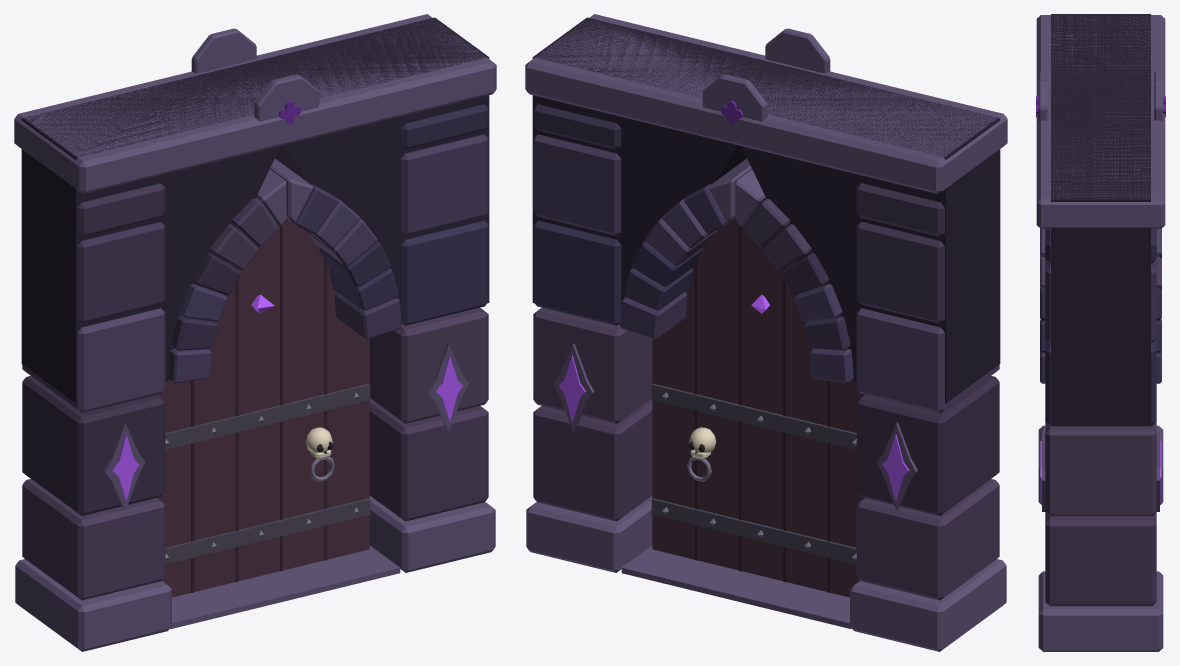
Rendered from door.fbx.
The picture shows the model from 3 angles, left to right: view 1: azimuth 30°, elevation 25°; view 2: azimuth 150°, elevation 25°; view 3: azimuth 270°, elevation 25°; orthographic projection. The views are drawn at different scales.
Parts seen in each view (by area): view 1: door, Door; view 2: door, Door; view 3: door.
Part boxes in pixels (x1,y1,x2,y2): door: (14, 14, 496, 651); Door: (157, 218, 370, 597); door: (525, 14, 1007, 651); Door: (651, 218, 864, 597); door: (1036, 14, 1165, 651).
Bounding box in the file's own units: 4 × 4.8 × 1.17.
